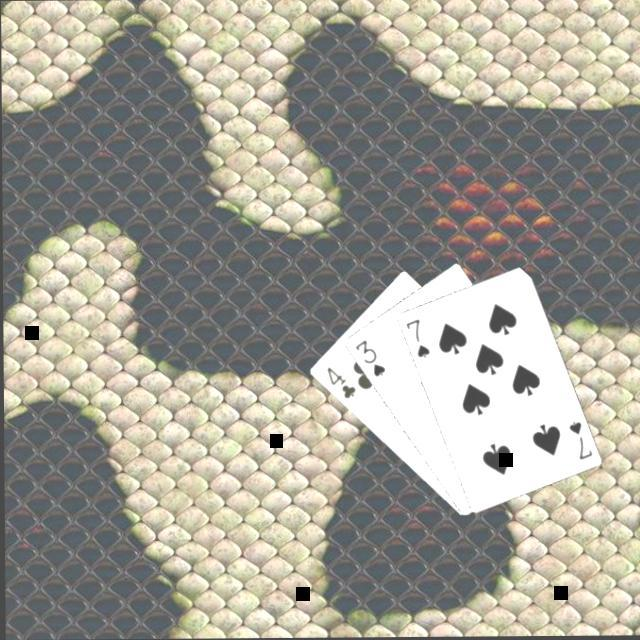3S: (352, 338, 388, 382)
4C: (323, 365, 359, 403)
7S: (402, 316, 432, 362), (565, 418, 595, 464)
